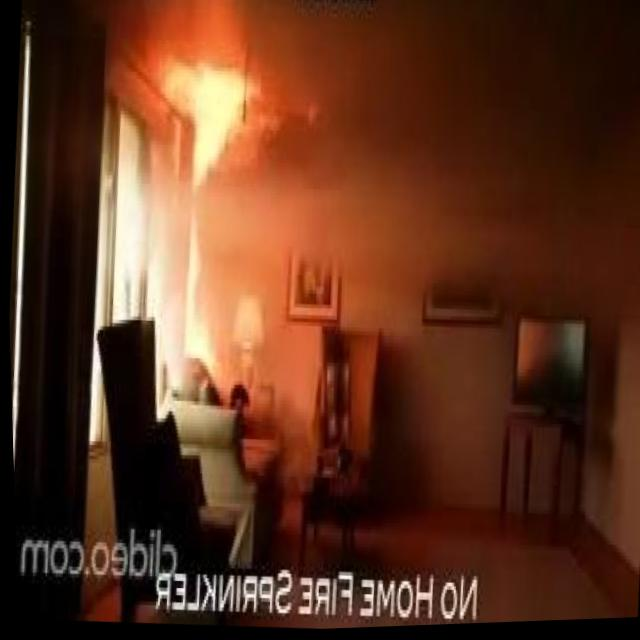fire: (189, 64, 264, 193), (178, 218, 221, 361), (157, 62, 196, 119)
